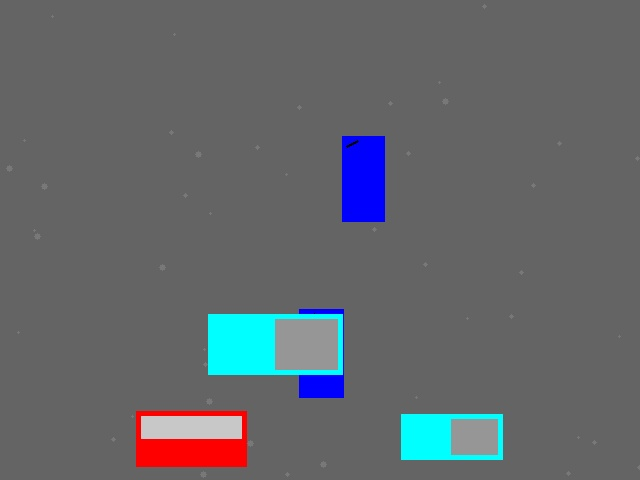car: (136, 411, 246, 466)
motorcycle: (299, 309, 343, 397), (342, 136, 384, 221)
truck: (208, 314, 342, 374), (401, 414, 502, 459)
